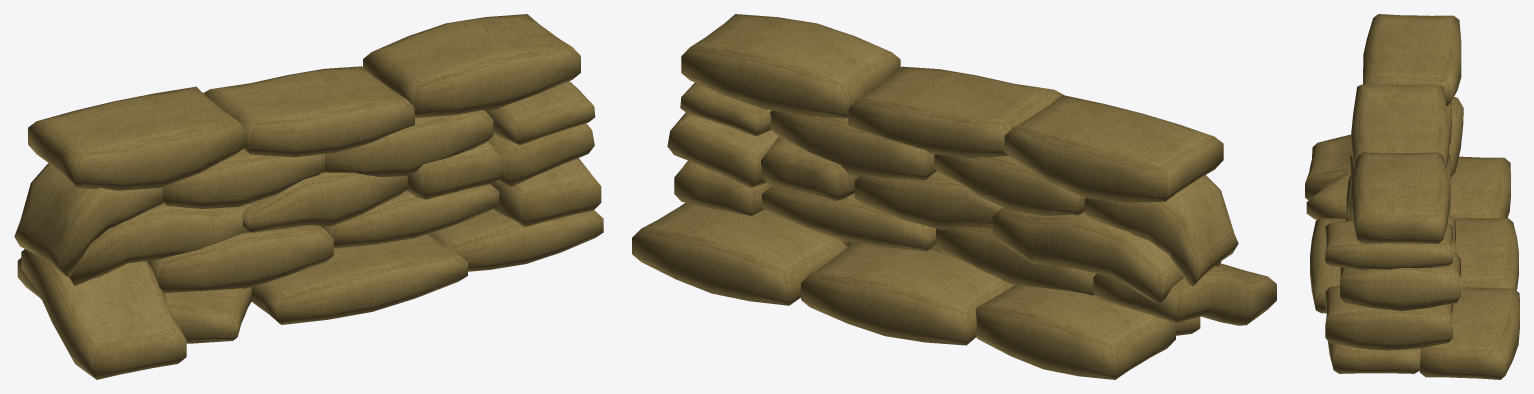
The model's file is SandBagsBarrier.FBX.
The picture shows the model from 3 angles, left to right: view 1: azimuth 30°, elevation 25°; view 2: azimuth 150°, elevation 25°; view 3: azimuth 270°, elevation 25°; orthographic projection. The views are drawn at different scales.
Parts seen in each view (by area): view 1: Sandbag; view 2: Sandbag; view 3: Sandbag.
Boxes of the visible parts, x1,y1,x2,y2 form: Sandbag: (14, 14, 603, 379); Sandbag: (632, 14, 1276, 379); Sandbag: (1305, 14, 1519, 379).
Size of the model in its own units: 72.86 by 27.81 by 30.59.
